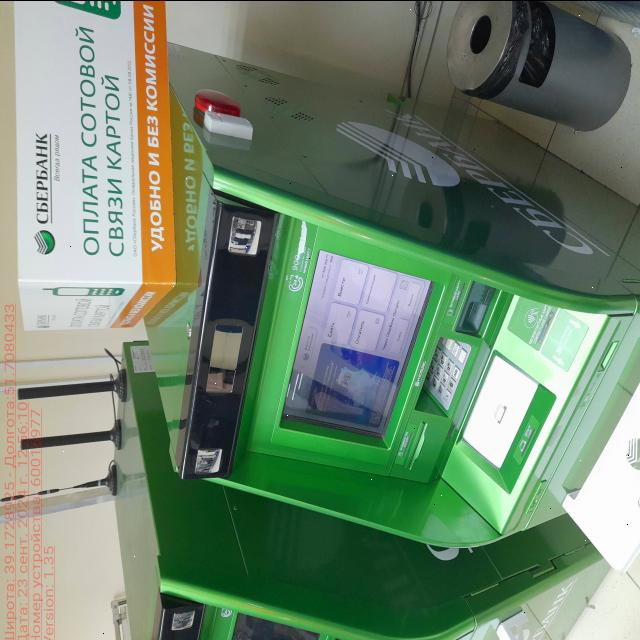bank: (147, 37, 640, 540), (106, 348, 601, 640)
